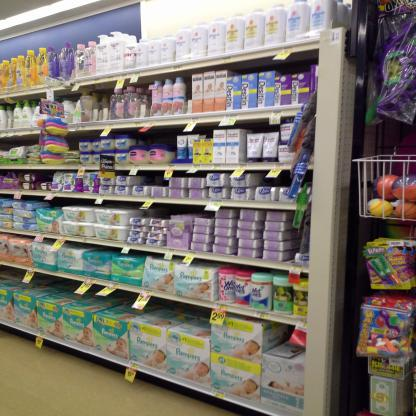Void: (151, 297, 212, 322), (142, 128, 178, 142), (257, 169, 286, 186), (234, 63, 276, 74), (142, 171, 168, 187), (155, 201, 171, 216)
